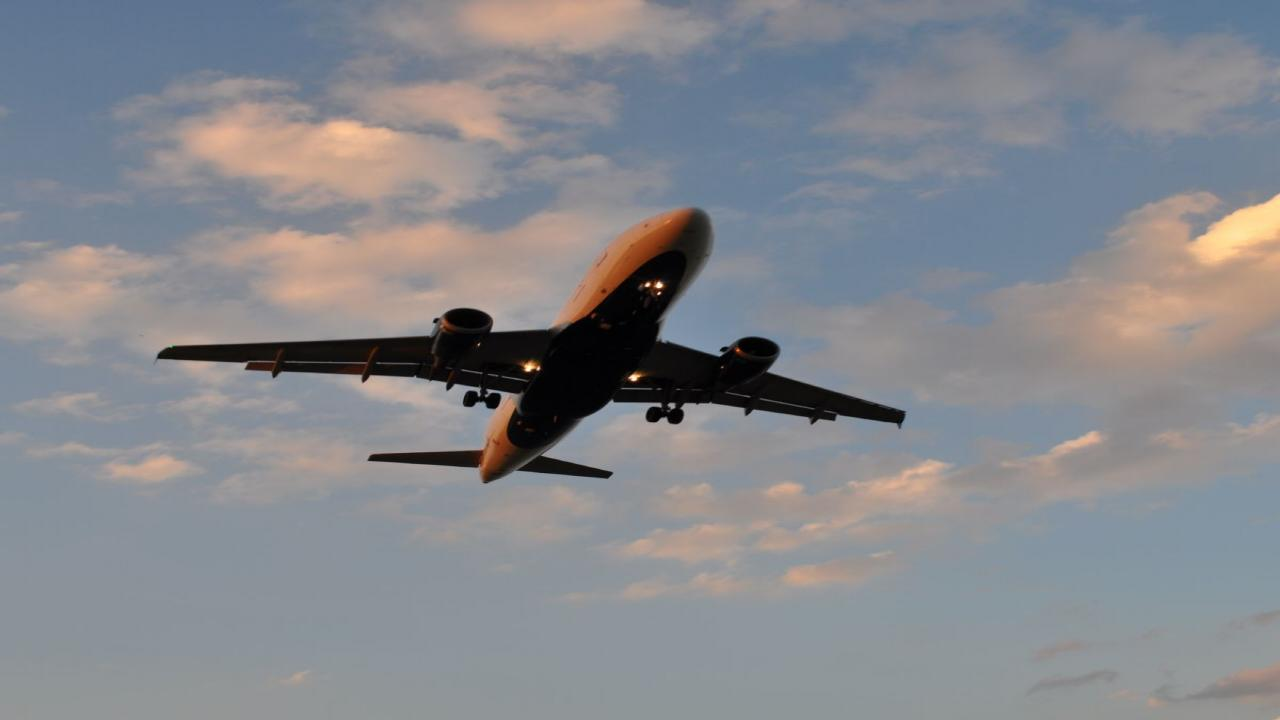Airplane: (136, 198, 923, 490)
